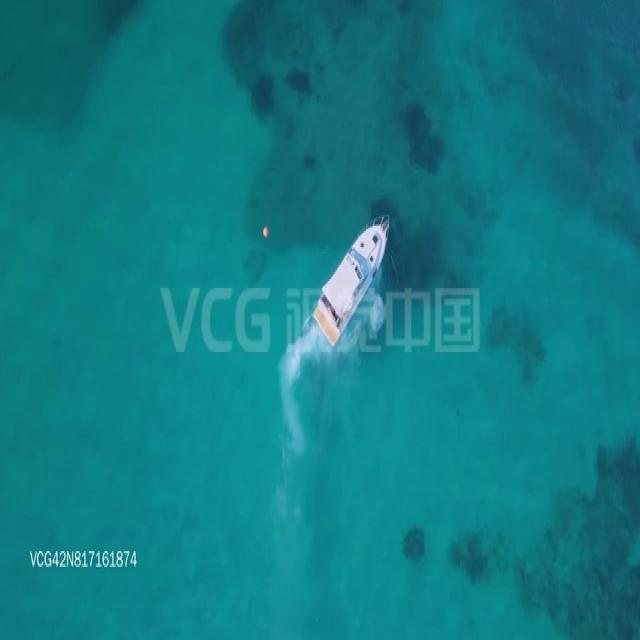houseboat: (309, 213, 391, 349)
